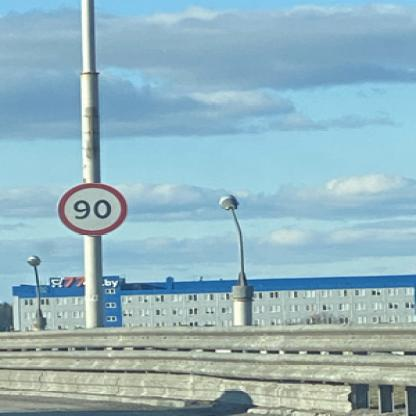speedlimit: (55, 182, 125, 235)
